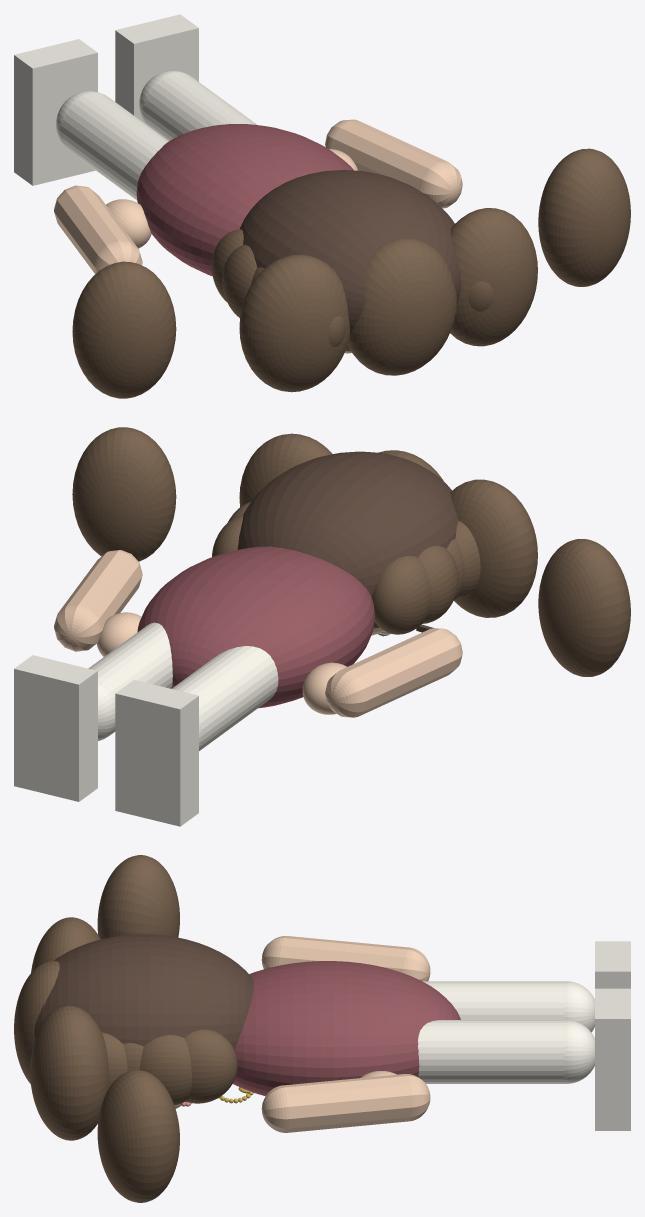
File: avatar.glb
3 renders of one model, top to bottom at view 1: azimuth 30°, elevation 25°; view 2: azimuth 150°, elevation 25°; view 3: azimuth 270°, elevation 25°, orthographic. The views are drawn at different scales.
Visible parts, largest first — view 1: torso, hair_back, hair_top_1, hair_top_0, hair_top_2, hair_top_4, hair_top_3, shoe_-0.28, leg_-0.23_body, arm_1, shoe_0.28, arm_-1 (+5 smaller); view 2: torso, hair_back, shoe_0.28, shoe_-0.28, hair_top_4, hair_top_0, hair_top_1, arm_-1, leg_-0.23_body, arm_1, curl_-1_0, leg_0.23_body (+7 smaller); view 3: torso, hair_back, leg_0.23_body, hair_top_4, hair_top_3, arm_1, hair_top_0, shoe_0.28, leg_-0.23_body, arm_-1, curl_1_0, hair_top_2 (+6 smaller).
Part boxes in pixels (box(x1,y1,x2,y2)): torso: box(136, 124, 353, 276); hair_back: box(240, 170, 460, 350); hair_top_1: box(239, 254, 349, 392); hair_top_0: box(72, 261, 176, 398); hair_top_2: box(347, 237, 456, 375); hair_top_4: box(538, 148, 630, 286); hair_top_3: box(450, 208, 537, 346); shoe_-0.28: box(14, 39, 97, 185); leg_-0.23_body: box(60, 93, 168, 200); arm_1: box(325, 119, 462, 208); shoe_0.28: box(115, 14, 198, 123); arm_-1: box(54, 185, 142, 274); torso: box(137, 546, 374, 708); hair_back: box(237, 451, 458, 628); shoe_0.28: box(14, 655, 97, 801); shoe_-0.28: box(115, 680, 198, 826); hair_top_4: box(72, 427, 176, 561); hair_top_0: box(538, 539, 630, 676); hair_top_1: box(450, 479, 537, 617); arm_-1: box(325, 628, 462, 717); leg_-0.23_body: box(171, 646, 278, 750); arm_1: box(54, 550, 142, 651); curl_-1_0: box(372, 556, 431, 634); leg_0.23_body: box(88, 622, 172, 734); torso: box(232, 961, 460, 1096); hair_back: box(34, 934, 253, 1049); leg_0.23_body: box(418, 1020, 565, 1083); hair_top_4: box(97, 1070, 179, 1202); hair_top_3: box(30, 1005, 109, 1140); arm_1: box(261, 1074, 430, 1132); hair_top_0: box(97, 855, 179, 939); shoe_0.28: box(595, 988, 630, 1130); leg_-0.23_body: box(423, 981, 565, 1019); arm_-1: box(261, 936, 430, 981); curl_1_0: box(185, 1029, 237, 1103); hair_top_2: box(14, 961, 59, 1083).
Size of the model in its own units: 3.03 by 0.8994 by 3.09.
